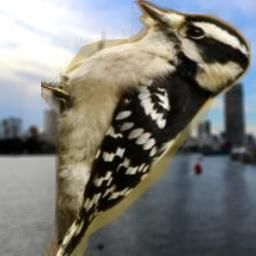Woodpecker: (41, 0, 251, 256)
